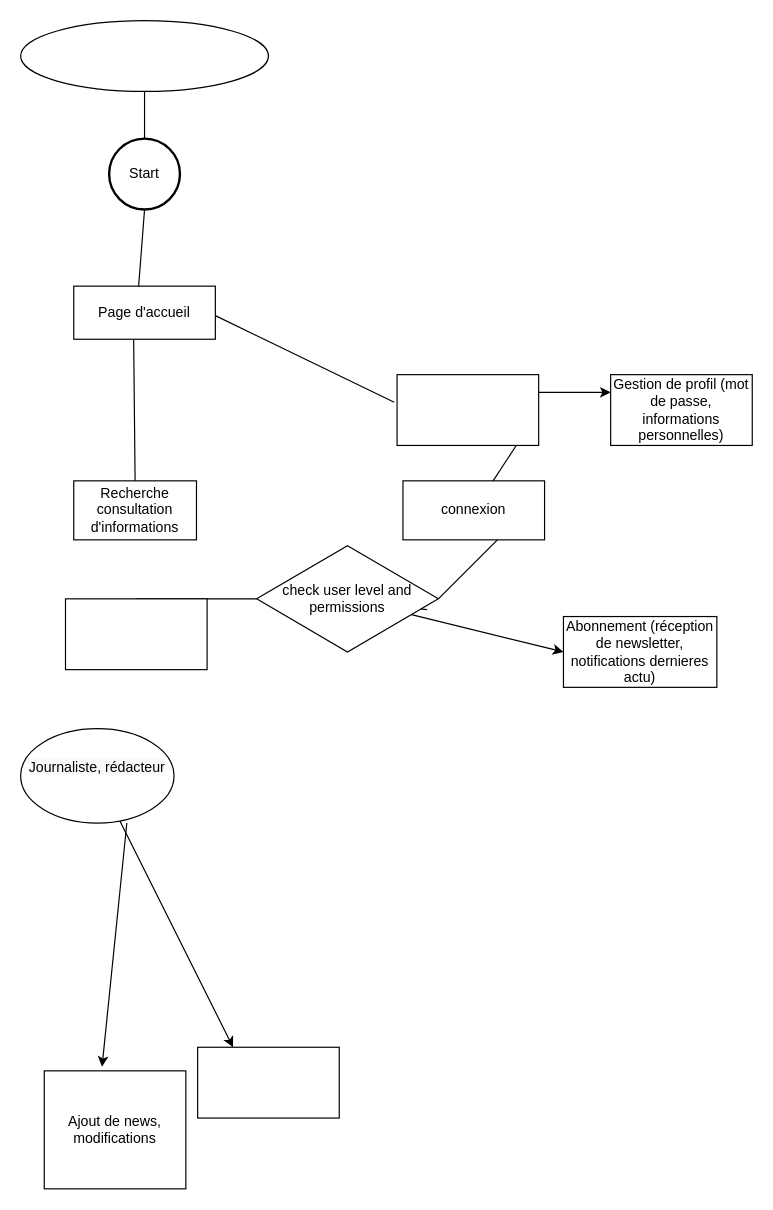
Image size: 773x1210. Some labels were removed from this diagram. The shapes that lost their labels are listed below. From the top down, each one's box as (x1, y1, x2, y2) in pixels, then its label:
(19, 19, 268, 91): Client / Utilisateur
(396, 373, 539, 445): Création de compte
(64, 598, 207, 670): Ajouter commentaires
(196, 1046, 339, 1118): Appréciation de l'information
